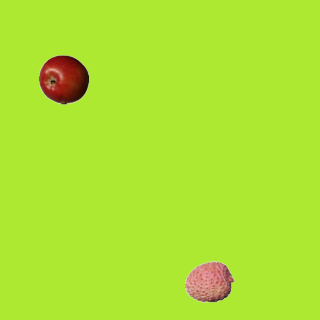Apple Braeburn: (38, 54, 88, 104)
Lychee: (184, 256, 234, 306)
